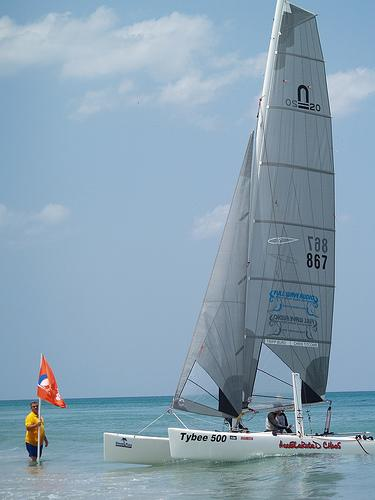Ship: (103, 1, 373, 461)
